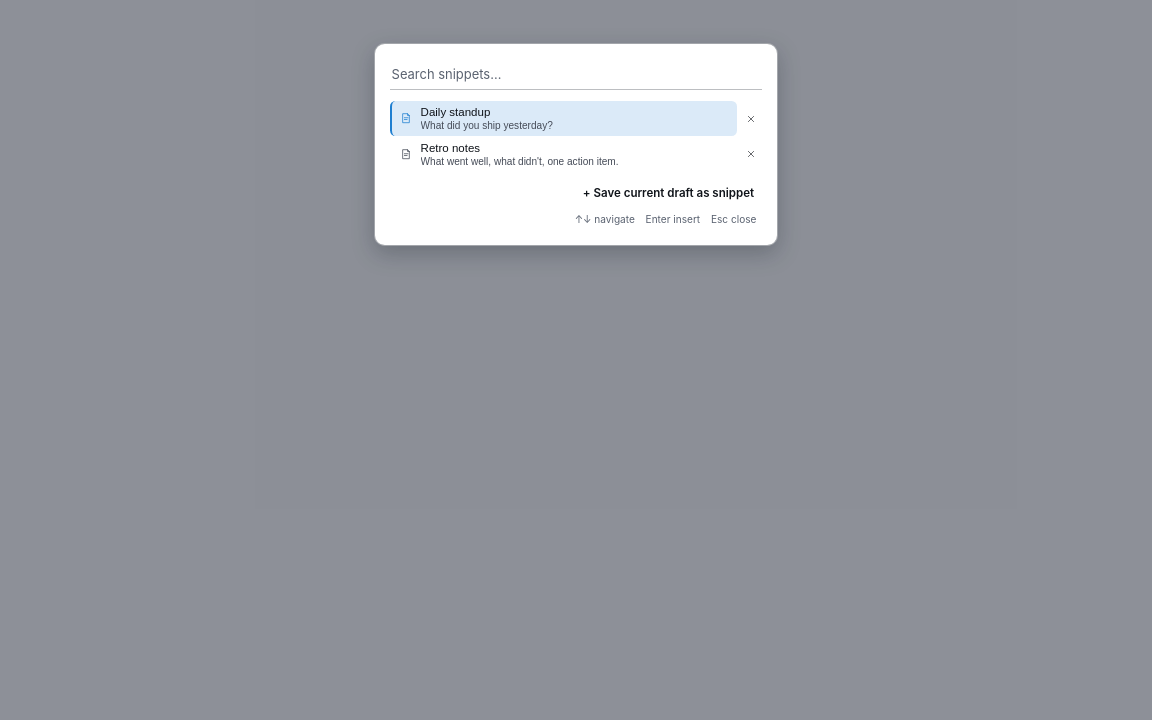
Test: SnippetPicker (SPEC §7.18, reusable prompt/snippet library; issue #261) › fuzzy-filters by name and text as the user types
This screenshot has width=1152, height=720.
In the field with test id "snippet-picker-input": (576, 74) left=390, top=59, right=762, bottom=90, type "ship"
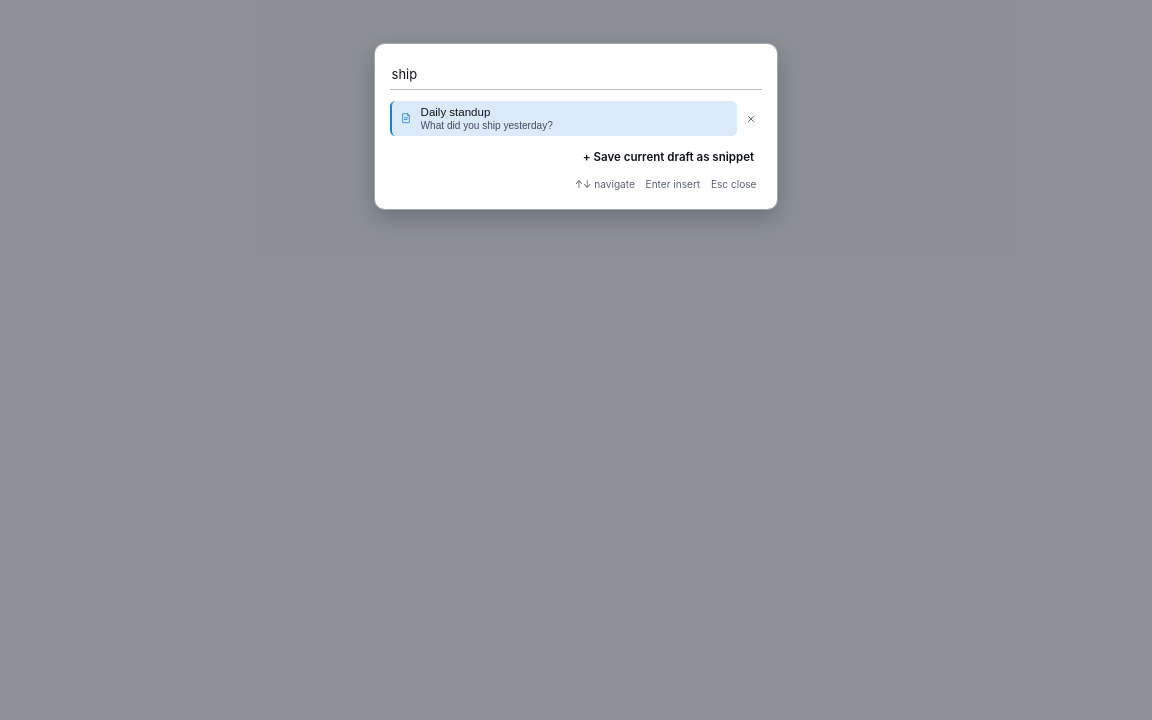
Expected: the option with test id "snippet-picker-item" shows "Daily standup", left=390, top=101, right=737, bottom=136
Expected: the number of options with test id "snippet-picker-item" is 1, left=390, top=101, right=737, bottom=136
